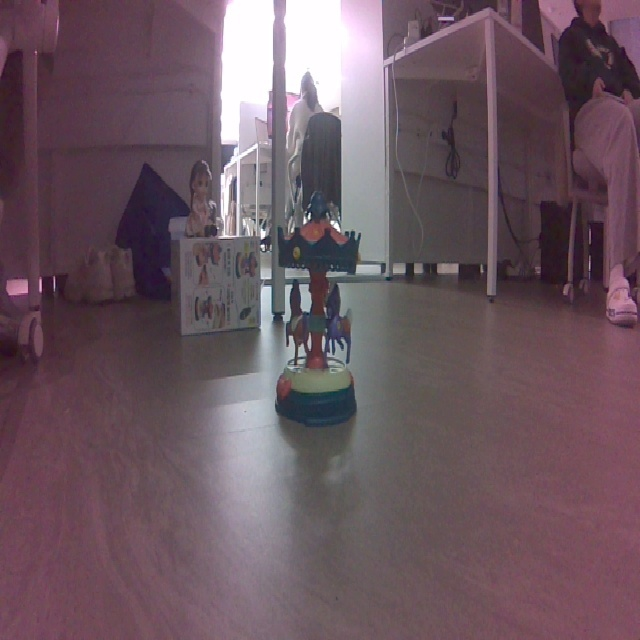목적지: (273, 187, 362, 432)
